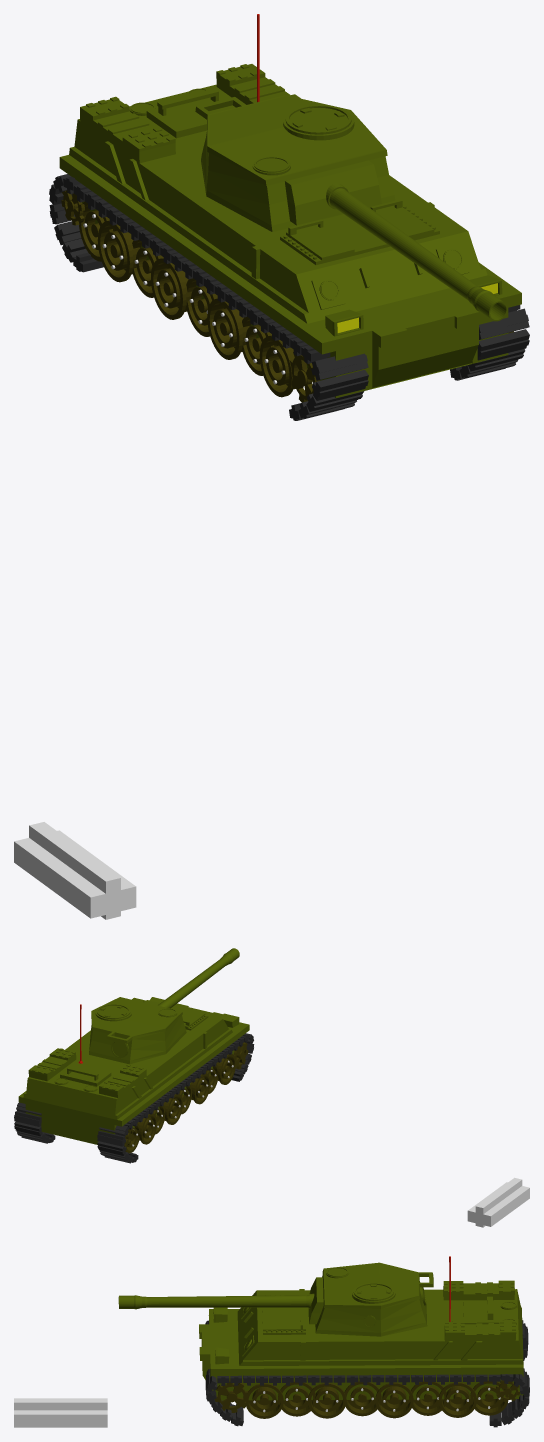
The model's file is Armor.dae.
3 renders of one model, top to bottom at view 1: azimuth 30°, elevation 25°; view 2: azimuth 150°, elevation 25°; view 3: azimuth 270°, elevation 25°, orthographic. The views are drawn at different scales.
Visible parts, largest first — view 1: Cube, Cube_001, Cube_003, Cube_004, Circle_020, Cube_006, Cube_007, Cylinder, Circle_003, Circle_004, Circle, Cube_010 (+1 smaller); view 2: Cube, Cube_001, Cube_003, Cube_004, Cube_010, Circle_020, Cube_005, Cylinder, Circle_004, Circle_003, Circle, Circle_005 (+1 smaller); view 3: Cube, Cube_001, Cube_003, Cube_008, Circle_020, Circle_014, Circle_016, Circle_015, Circle_019, Cube_005, Circle_012, Circle_013 (+9 smaller).
Boxes of the visible parts, left/top/right/bottom form: Cube: left=59, top=64, right=521, bottom=397; Cube_001: left=195, top=95, right=395, bottom=232; Cube_003: left=14, top=822, right=136, bottom=919; Cube_004: left=73, top=183, right=330, bottom=363; Circle_020: left=326, top=183, right=507, bottom=321; Cube_006: left=289, top=353, right=368, bottom=420; Cube_007: left=450, top=308, right=529, bottom=380; Cylinder: left=283, top=104, right=354, bottom=140; Circle_003: left=151, top=258, right=191, bottom=319; Circle_004: left=207, top=298, right=249, bottom=359; Circle: left=97, top=220, right=139, bottom=282; Cube_010: left=49, top=174, right=87, bottom=262; Cube: left=18, top=997, right=249, bottom=1144; Cube_001: left=89, top=997, right=186, bottom=1064; Cube_003: left=467, top=1177, right=529, bottom=1227; Cube_004: left=131, top=1033, right=249, bottom=1126; Cube_010: left=97, top=1120, right=133, bottom=1163; Circle_020: left=158, top=948, right=239, bottom=1008; Cube_005: left=14, top=1102, right=50, bottom=1143; Cylinder: left=95, top=1004, right=131, bottom=1021; Circle_004: left=190, top=1073, right=210, bottom=1104; Circle_003: left=163, top=1094, right=182, bottom=1124; Circle: left=137, top=1113, right=156, bottom=1144; Circle_005: left=216, top=1054, right=235, bottom=1084; Cube: left=199, top=1280, right=523, bottom=1400; Cube_001: left=308, top=1262, right=433, bottom=1336; Cube_003: left=14, top=1398, right=107, bottom=1427; Cube_008: left=217, top=1374, right=500, bottom=1385; Circle_020: left=118, top=1293, right=314, bottom=1309; Circle_014: left=245, top=1383, right=283, bottom=1418; Circle_016: left=375, top=1382, right=413, bottom=1418; Circle_015: left=308, top=1383, right=346, bottom=1418; Circle_019: left=438, top=1382, right=476, bottom=1417; Cube_005: left=500, top=1368, right=529, bottom=1425; Circle_012: left=344, top=1380, right=381, bottom=1416; Circle_013: left=278, top=1381, right=315, bottom=1416.
Size of the model in its own units: 3.41 by 4.19 by 2.84.
